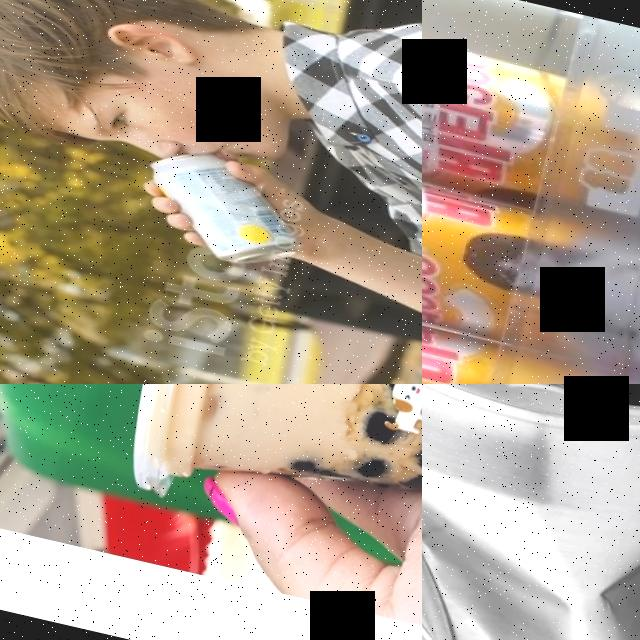can: (422, 5, 640, 251), (422, 140, 640, 382), (130, 140, 318, 278), (422, 281, 640, 384)
cup: (118, 384, 422, 563)
